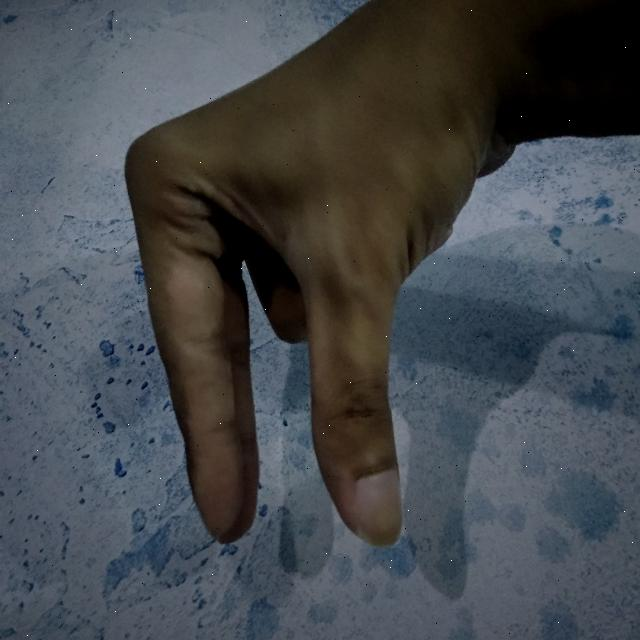Q: (116, 0, 639, 564)
